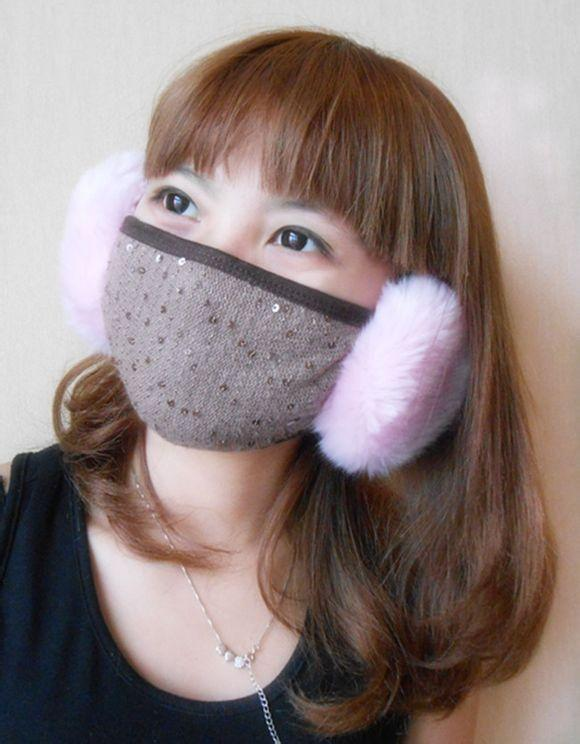OK: (110, 150, 399, 439)
